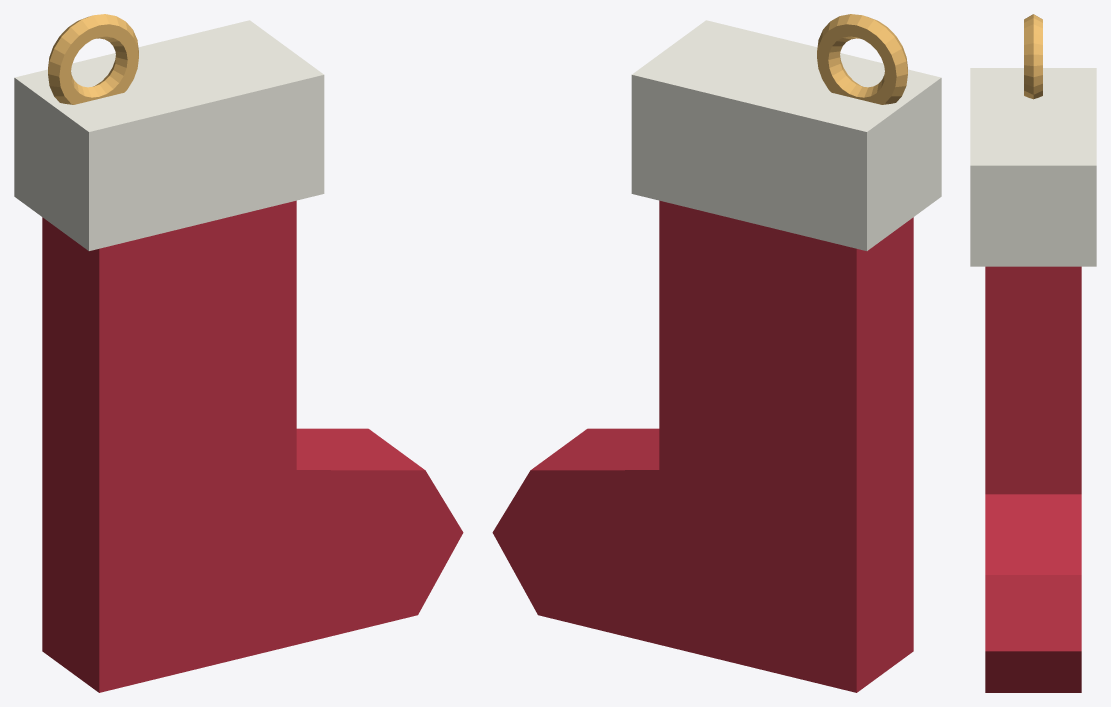
File: three-d-christmas-village-christmas-village-hanging-stocking-f1c534f6.glb
3 renders of one model, left to right at view 1: azimuth 30°, elevation 25°; view 2: azimuth 150°, elevation 25°; view 3: azimuth 270°, elevation 25°, orthographic. The views are drawn at different scales.
Parts seen in each view (by area): view 1: hanging-stocking; view 2: hanging-stocking; view 3: hanging-stocking.
Part boxes in pixels (x1,y1,x2,y2): hanging-stocking: [14, 14, 463, 692]; hanging-stocking: [492, 14, 941, 692]; hanging-stocking: [970, 14, 1096, 692].
Size of the model in its own units: 0.51 by 0.82 by 0.17.
